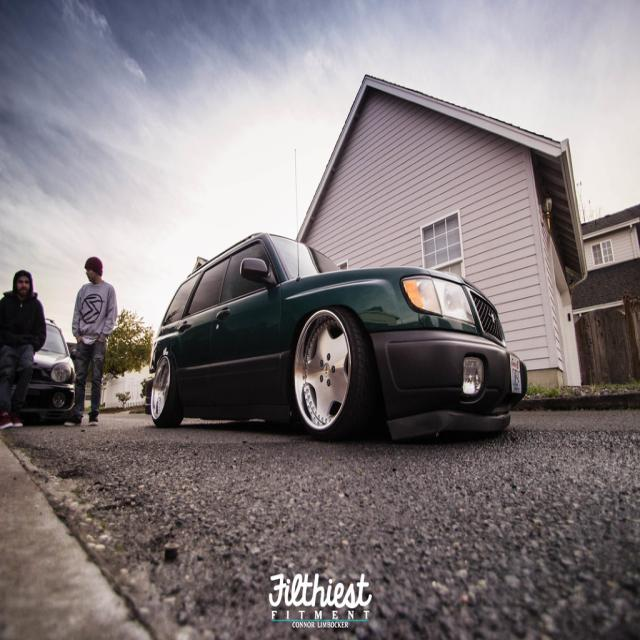car: (146, 221, 531, 445)
